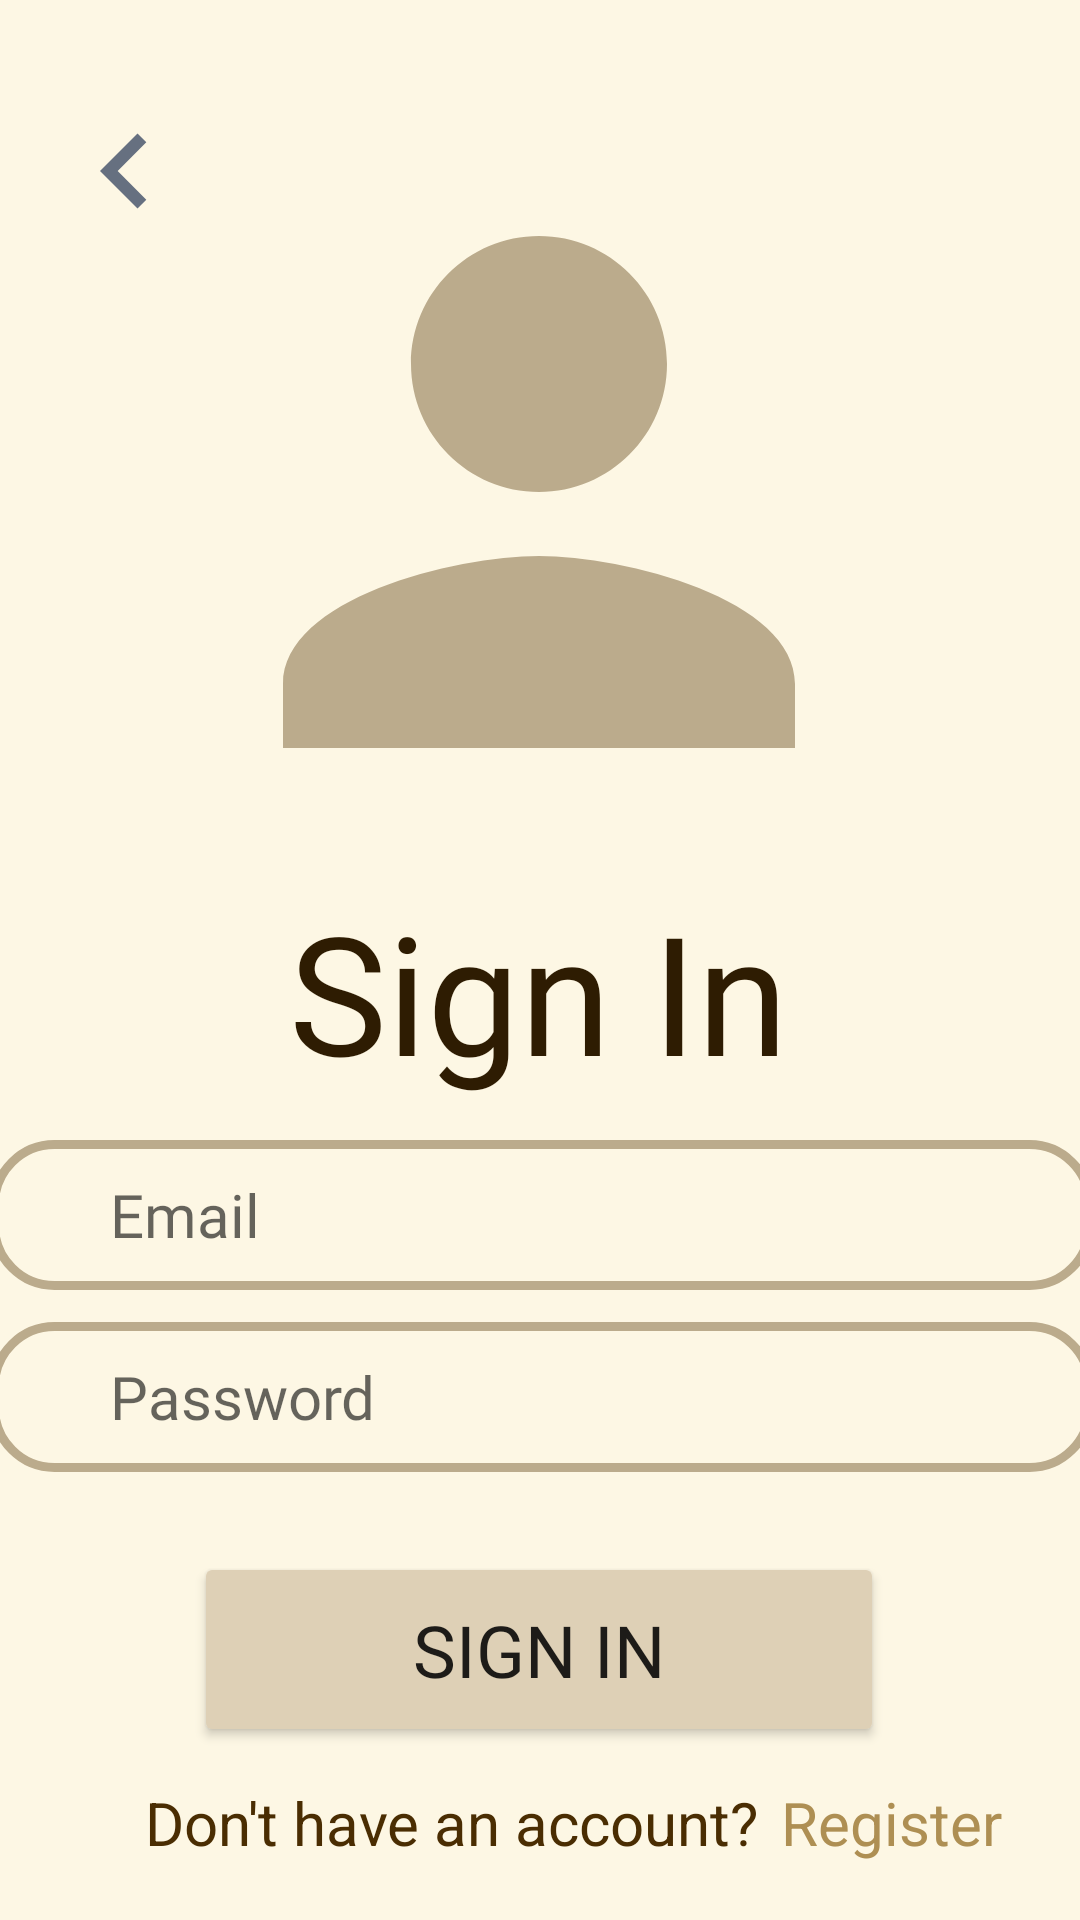

Icons on this 1080 x 1920 Android screen, each with its box as (x1, y1, x2, y2):
keyboard arrow left: (100, 133, 146, 209)
